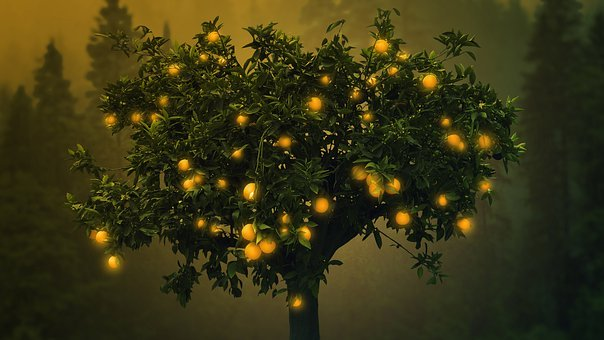tree: (99, 35, 488, 320)
